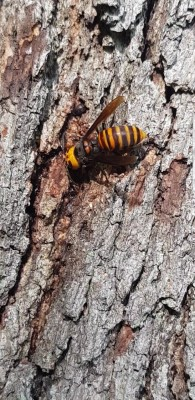asian_giant_hornet: (61, 123, 149, 177)
